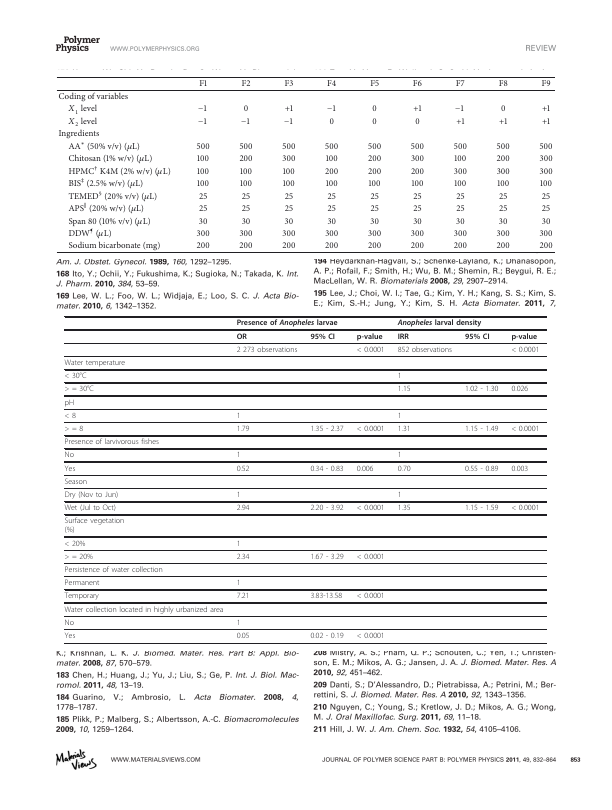borderless: (63, 315, 547, 643), (55, 75, 555, 252)
cell: (67, 162, 172, 179), (64, 605, 224, 615), (67, 188, 158, 204), (67, 151, 153, 166), (67, 213, 152, 228), (67, 200, 145, 216), (67, 175, 144, 191), (67, 138, 141, 154), (64, 517, 125, 535), (67, 241, 161, 252), (236, 319, 338, 328), (64, 566, 164, 575), (64, 438, 160, 447), (397, 319, 482, 328), (67, 225, 113, 241), (57, 92, 129, 102), (236, 345, 298, 355), (397, 345, 453, 355), (64, 359, 126, 368), (67, 113, 98, 130), (67, 101, 98, 117), (64, 491, 119, 500), (64, 504, 117, 513), (57, 129, 100, 140), (309, 464, 345, 474), (309, 552, 345, 562), (309, 631, 345, 641), (464, 464, 499, 474), (309, 425, 345, 434), (309, 504, 345, 513), (64, 579, 100, 588), (64, 592, 100, 601), (464, 385, 499, 394), (464, 425, 499, 434), (464, 504, 499, 513), (309, 592, 343, 601), (356, 345, 386, 355), (510, 345, 540, 355), (64, 552, 94, 562), (356, 552, 386, 562), (356, 631, 386, 641), (510, 332, 538, 342), (64, 385, 95, 394), (309, 332, 336, 342), (356, 332, 383, 342), (356, 425, 386, 434), (510, 425, 540, 434), (356, 504, 386, 513), (510, 504, 540, 513), (356, 592, 386, 601), (464, 332, 490, 342), (64, 477, 88, 487), (64, 539, 86, 549), (64, 372, 87, 381), (197, 113, 209, 129), (240, 113, 252, 129), (283, 113, 295, 129), (510, 464, 529, 474), (197, 101, 209, 116), (326, 101, 338, 116), (64, 425, 84, 434), (356, 464, 374, 474), (238, 154, 254, 165), (238, 241, 254, 252), (510, 385, 529, 394), (455, 101, 466, 116), (281, 154, 296, 165), (367, 154, 382, 165), (410, 154, 425, 165), (496, 154, 511, 165), (539, 154, 554, 165), (324, 166, 339, 177), (367, 166, 382, 177), (410, 166, 425, 177), (453, 166, 468, 177), (496, 166, 511, 177), (539, 166, 554, 177), (196, 241, 211, 252), (281, 241, 296, 252), (324, 241, 339, 252), (367, 241, 382, 252), (410, 241, 425, 252), (453, 241, 468, 252), (496, 241, 511, 252), (539, 241, 554, 252), (238, 142, 254, 152), (238, 229, 254, 239), (196, 154, 210, 165), (325, 154, 339, 165), (453, 154, 467, 165), (196, 166, 210, 177), (239, 166, 253, 177), (282, 166, 296, 177), (196, 179, 210, 190), (239, 179, 253, 190), (282, 179, 296, 190), (325, 179, 339, 190), (368, 179, 382, 190), (410, 179, 424, 190), (453, 179, 467, 190), (496, 179, 510, 190), (539, 179, 553, 190), (196, 142, 211, 152), (281, 142, 296, 152), (324, 142, 339, 152), (367, 142, 382, 152), (410, 142, 425, 152), (453, 142, 468, 152), (496, 142, 511, 152), (539, 142, 554, 152), (196, 229, 211, 239), (281, 229, 296, 239), (324, 229, 339, 239), (367, 229, 382, 239), (410, 229, 425, 239), (453, 229, 468, 239), (496, 229, 511, 239), (539, 229, 554, 239), (236, 464, 250, 474), (397, 464, 411, 474), (236, 552, 250, 562), (236, 631, 250, 641), (397, 332, 410, 342), (64, 411, 77, 421), (397, 385, 411, 394), (236, 425, 250, 434), (397, 425, 411, 434), (236, 504, 250, 513), (397, 504, 411, 513), (236, 592, 250, 601), (283, 79, 294, 90), (326, 79, 337, 90), (369, 79, 380, 90), (412, 79, 423, 90), (455, 79, 466, 90), (498, 79, 509, 90), (541, 79, 552, 90), (412, 104, 423, 115), (369, 191, 380, 202), (412, 191, 423, 202), (455, 191, 466, 202), (326, 216, 337, 227), (369, 216, 380, 227), (412, 216, 423, 227), (455, 216, 466, 227), (236, 332, 248, 342), (64, 464, 76, 474), (64, 631, 76, 641), (198, 79, 208, 90), (241, 79, 251, 90), (284, 104, 294, 115), (541, 104, 551, 115), (198, 191, 208, 202), (241, 191, 251, 202), (284, 191, 294, 202), (327, 191, 337, 202), (498, 191, 508, 202), (541, 191, 551, 202), (369, 204, 380, 214), (412, 204, 423, 214), (455, 204, 466, 214), (198, 216, 208, 227), (241, 216, 251, 227), (284, 216, 294, 227), (498, 216, 508, 227), (541, 216, 551, 227), (64, 398, 75, 408), (64, 618, 75, 628), (455, 117, 465, 127), (498, 117, 508, 127), (541, 117, 551, 127), (198, 204, 208, 214), (241, 204, 251, 214), (284, 204, 294, 214), (327, 204, 337, 214), (498, 204, 508, 214), (541, 204, 551, 214), (64, 451, 75, 460), (371, 104, 378, 115), (371, 117, 378, 127), (414, 117, 421, 127), (243, 104, 249, 115), (500, 104, 506, 115), (329, 117, 335, 127), (397, 411, 403, 421), (397, 372, 403, 381), (397, 451, 403, 460), (397, 491, 403, 500), (236, 411, 241, 421), (236, 539, 241, 549), (236, 618, 241, 628), (236, 451, 241, 460), (236, 491, 241, 500), (236, 579, 241, 588)
